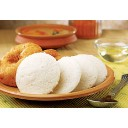idly: (16, 53, 60, 94), (59, 56, 82, 91), (77, 53, 98, 87)
